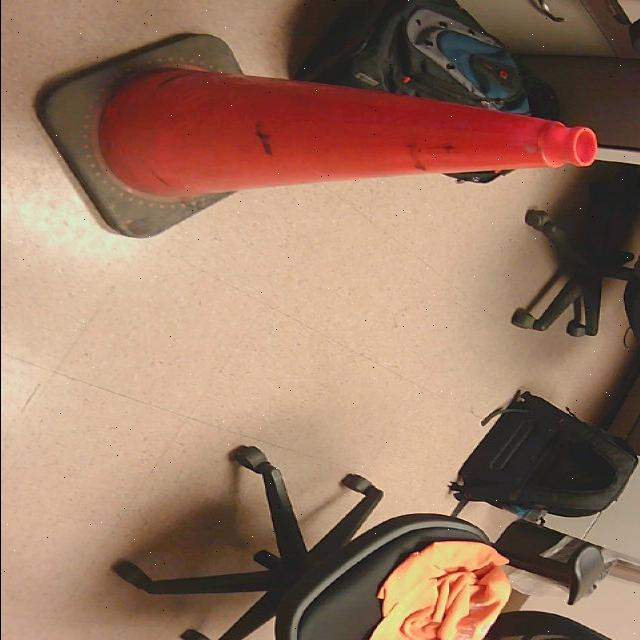traffic cone: (36, 34, 597, 240)
